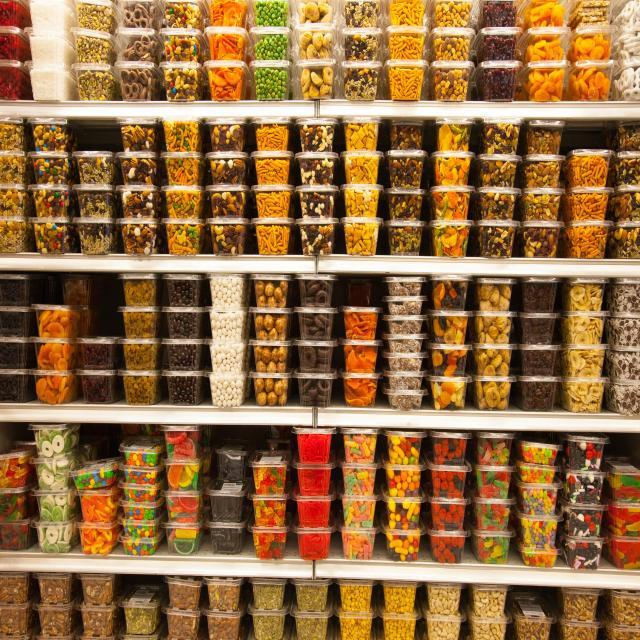Imprecise: (32, 272, 85, 407), (340, 272, 386, 410), (121, 419, 165, 555), (252, 423, 292, 561), (206, 444, 252, 556), (0, 448, 32, 491), (74, 461, 119, 488), (572, 0, 611, 28)
